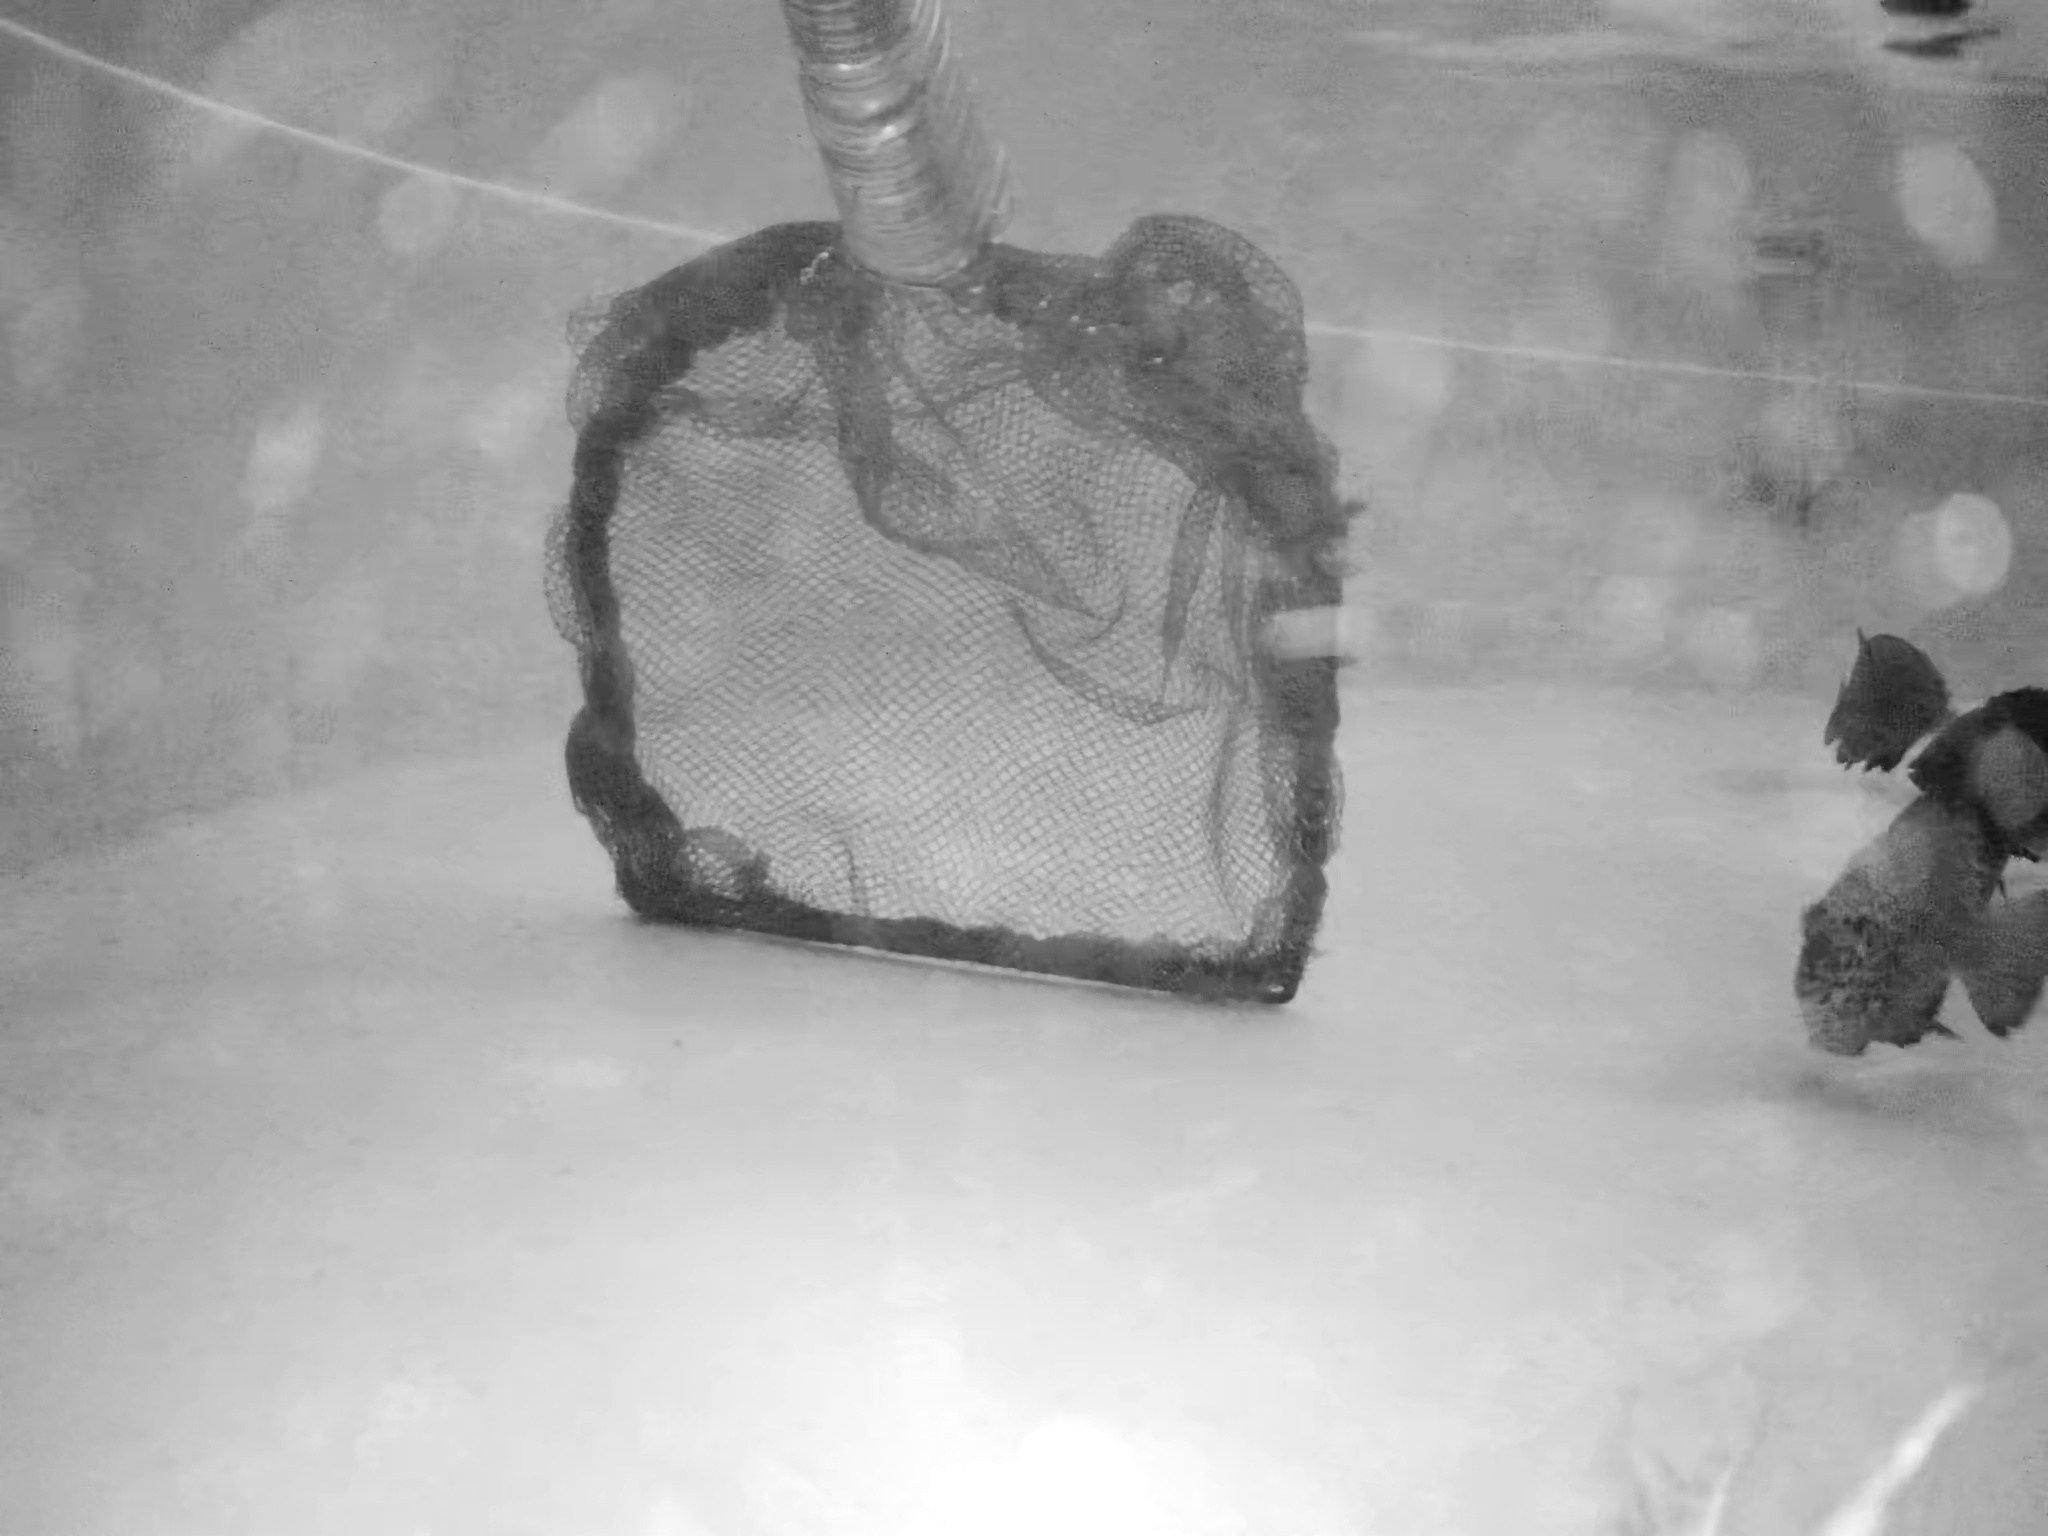fish: (1777, 774, 2048, 1083), (1922, 708, 2048, 866), (1835, 628, 1963, 771)
